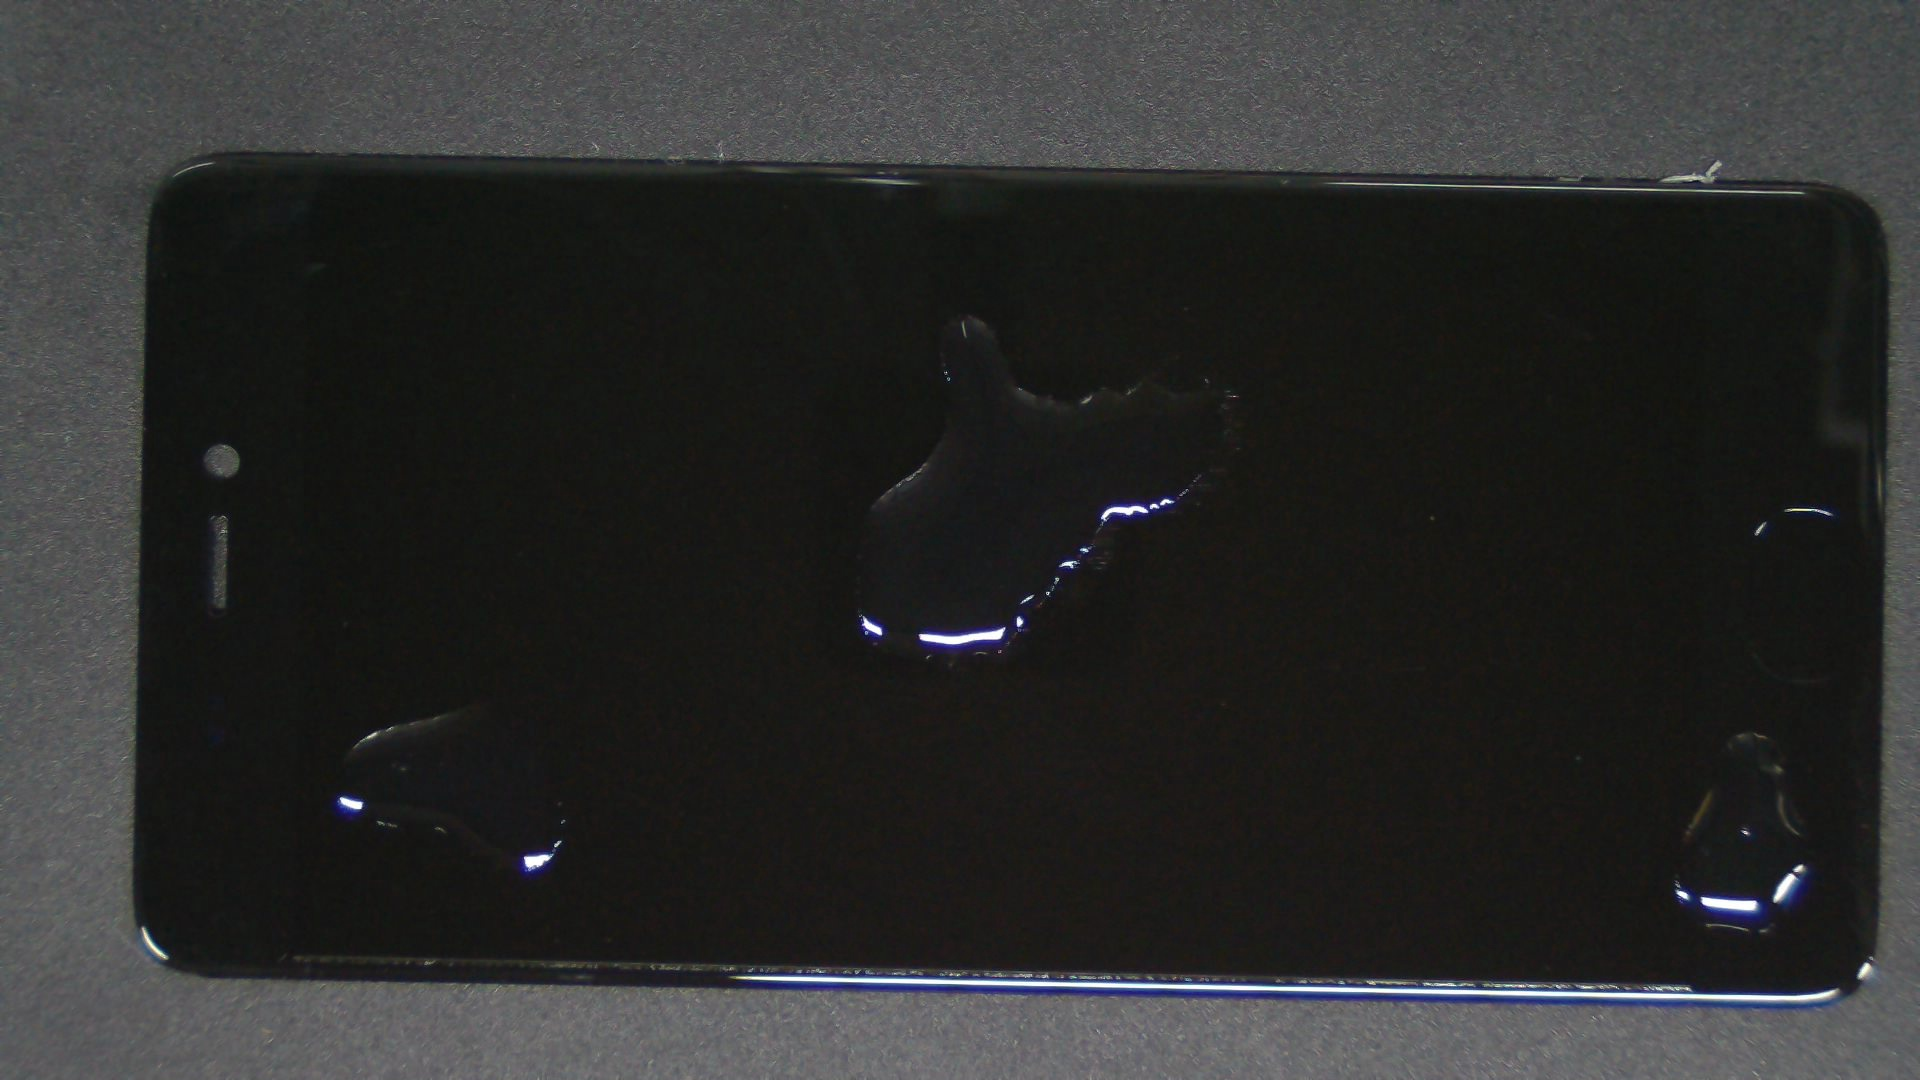oil: (873, 365, 1920, 1080), (241, 351, 721, 1054), (481, 157, 1443, 472)
